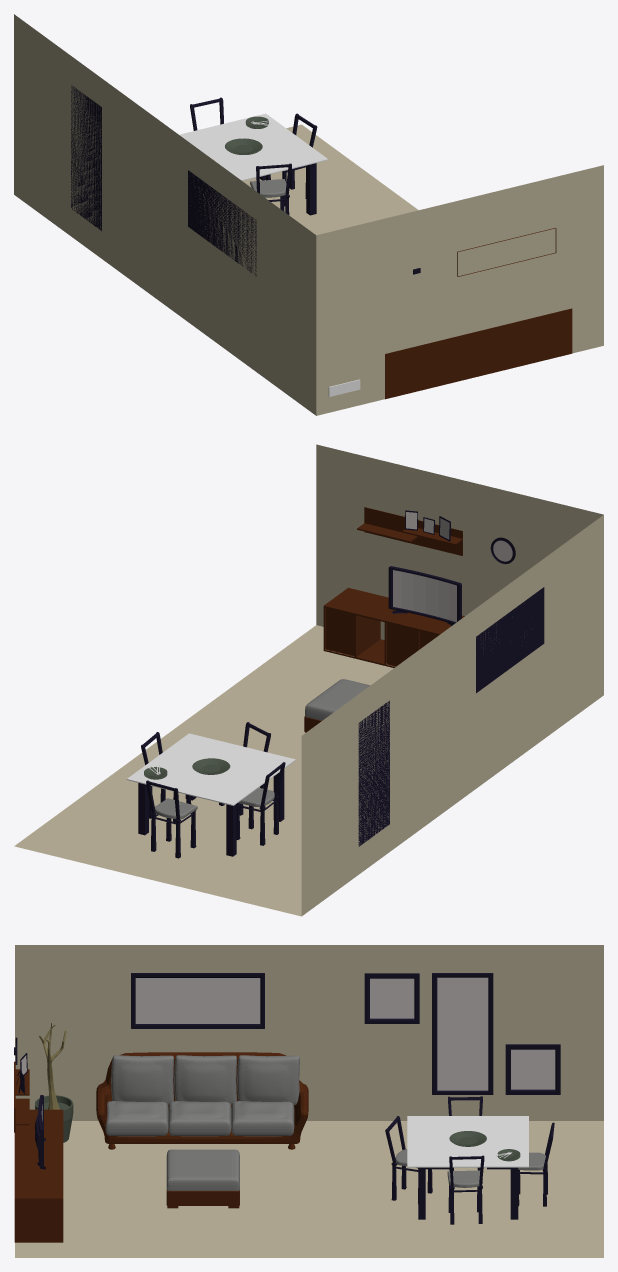
Rendered from room2.1.glb.
The picture shows the model from 3 angles, top to bottom: view 1: azimuth 30°, elevation 25°; view 2: azimuth 150°, elevation 25°; view 3: azimuth 270°, elevation 25°; orthographic projection. The views are drawn at different scales.
Parts seen in each view (by area): view 1: room, table, armario2, armario1, paint4, paint1, chair3, chair4; view 2: room, table, armario2, paint4, paint1, tv, polca, chai1, puff, chair2; view 3: room, sofa.encostar1, paint4, paint1, table, sofa.t.sit, armario2, puff, sofa.frame, paint3, paint3.001, armario1 (+8 smaller).
Boxes of the visible parts, bbox=[...] form: room: bbox=[14, 14, 603, 415]; table: bbox=[179, 113, 328, 215]; armario2: bbox=[478, 308, 572, 376]; armario1: bbox=[385, 331, 478, 399]; paint4: bbox=[71, 85, 101, 230]; paint1: bbox=[188, 170, 256, 276]; chair3: bbox=[250, 163, 291, 214]; chair4: bbox=[266, 113, 317, 206]; room: bbox=[14, 444, 603, 916]; table: bbox=[126, 733, 295, 856]; armario2: bbox=[323, 587, 430, 667]; paint4: bbox=[358, 700, 389, 846]; paint1: bbox=[476, 587, 544, 693]; tv: bbox=[388, 566, 461, 625]; polca: bbox=[357, 507, 462, 555]; chai1: bbox=[146, 780, 197, 858]; puff: bbox=[304, 679, 370, 732]; chair2: bbox=[236, 762, 285, 845]; room: bbox=[15, 945, 603, 1257]; sofa.encostar1: bbox=[111, 1055, 299, 1105]; paint4: bbox=[432, 973, 493, 1094]; paint1: bbox=[131, 973, 264, 1028]; table: bbox=[407, 1116, 528, 1219]; sofa.t.sit: bbox=[105, 1101, 294, 1136]; armario2: bbox=[14, 1154, 63, 1242]; puff: bbox=[166, 1149, 239, 1208]; sofa.frame: bbox=[96, 1052, 308, 1149]; paint3: bbox=[505, 1044, 560, 1094]; paint3.001: bbox=[364, 973, 419, 1023]; armario1: bbox=[14, 1109, 63, 1154].
Bounding box in the file's own units: 4 × 2.4 × 7.29.
